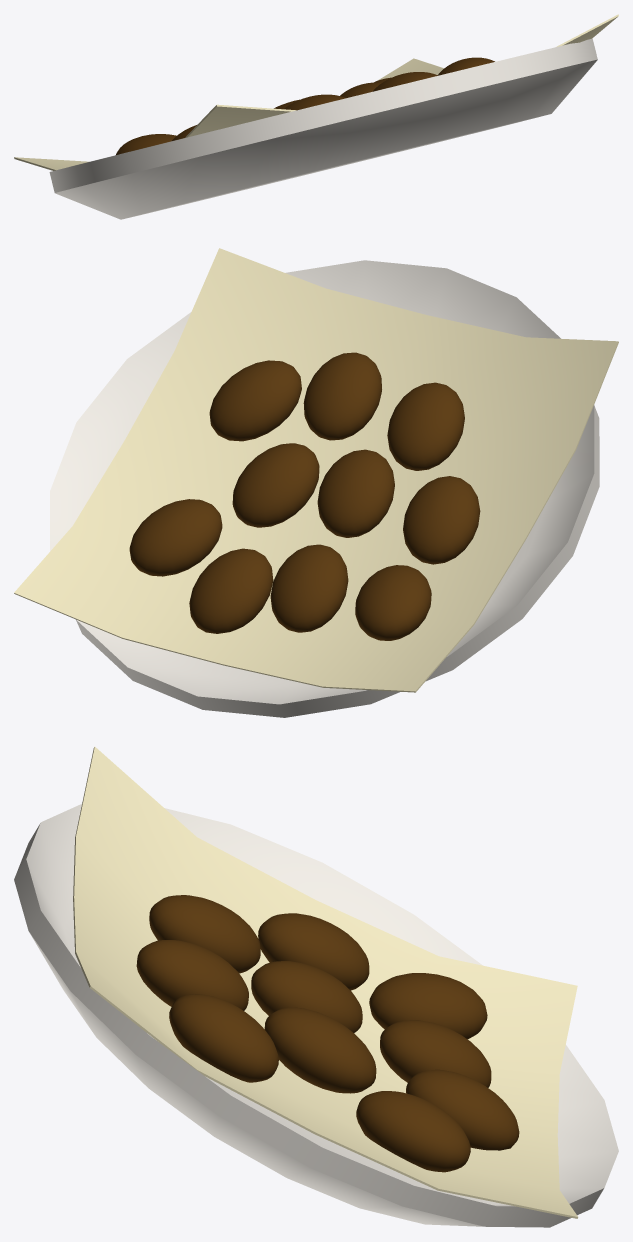
Rendered from cake1.fbx.
The picture shows the model from 3 angles, top to bottom: view 1: azimuth 30°, elevation 25°; view 2: azimuth 150°, elevation 25°; view 3: azimuth 270°, elevation 25°; orthographic projection. The views are drawn at different scales.
Visible parts, largest first — view 1: pSphere45; view 2: pSphere45; view 3: pSphere45.
Part boxes in pixels (<box>): pSphere45: <box>14,14,618,219</box>; pSphere45: <box>14,248,618,717</box>; pSphere45: <box>14,746,618,1227</box>.
Bounding box in the file's own units: 2.17 × 1.14 × 1.95.
